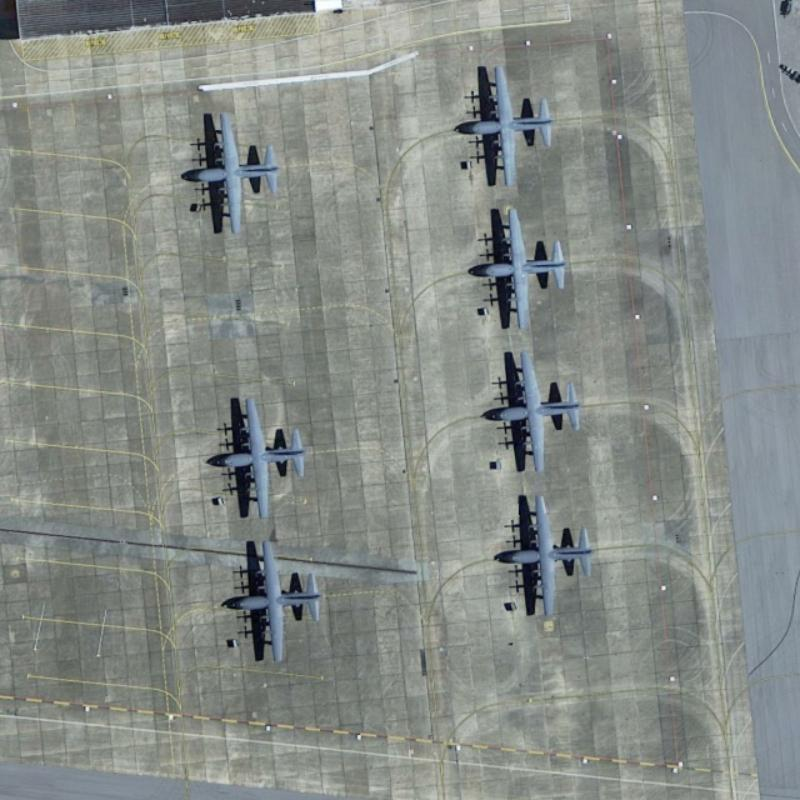A2: (227, 534, 328, 665), (500, 490, 599, 619), (475, 202, 573, 328), (191, 106, 284, 237), (489, 346, 584, 474), (216, 393, 311, 521), (462, 62, 557, 184)
